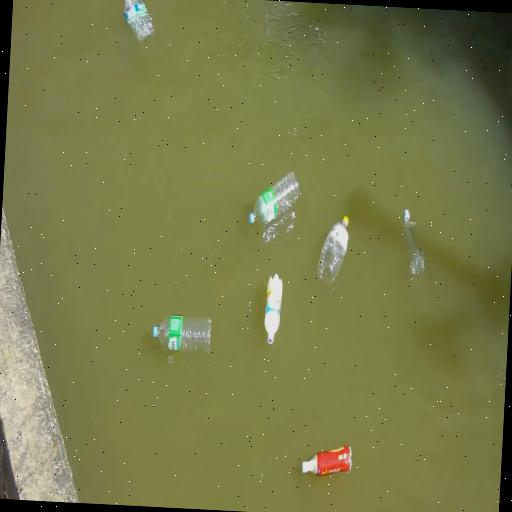plastic: (248, 172, 299, 224), (153, 316, 210, 353), (317, 216, 347, 283), (301, 446, 350, 476), (402, 210, 423, 279), (263, 274, 282, 344)
